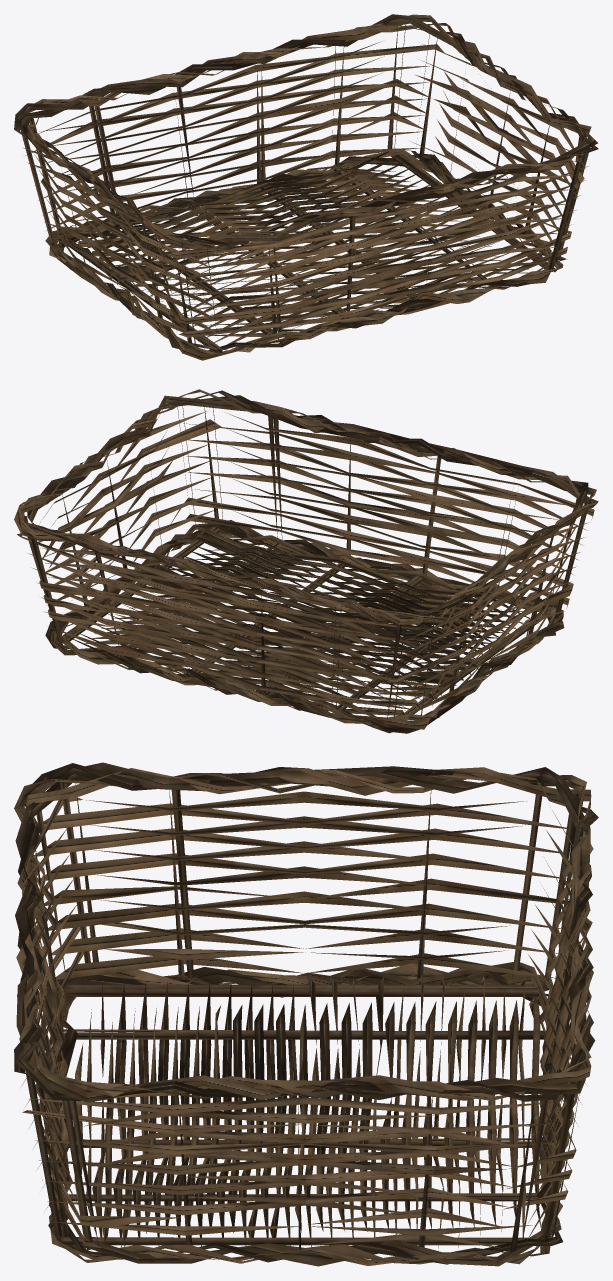
File: wicker_basket_01.glb
The picture shows the model from 3 angles, top to bottom: view 1: azimuth 30°, elevation 25°; view 2: azimuth 150°, elevation 25°; view 3: azimuth 270°, elevation 25°; orthographic projection. The views are drawn at different scales.
Visible parts, largest first — view 1: wicker_basket_01; view 2: wicker_basket_01; view 3: wicker_basket_01.
Part boxes in pixels (x1,y1,x2,y2): wicker_basket_01: (14, 14, 598, 360); wicker_basket_01: (14, 389, 598, 733); wicker_basket_01: (14, 762, 598, 1266).
Size of the model in its own units: 0.3823 by 0.1174 by 0.2928.
1 material, 1 textured.
